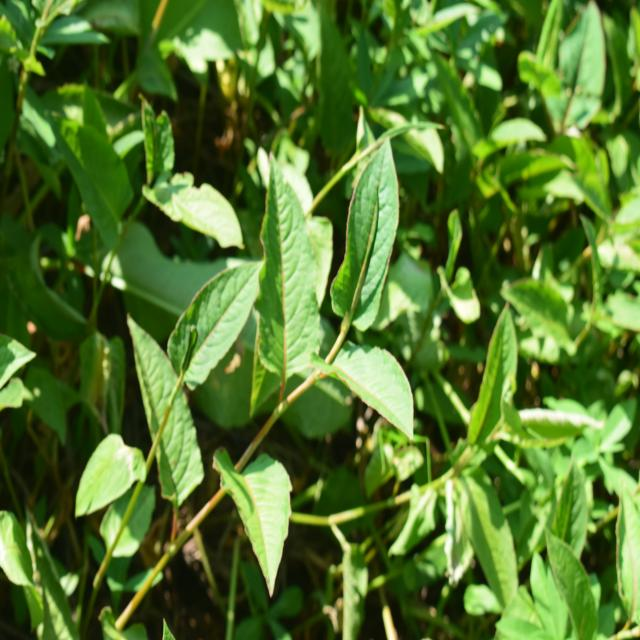Chinese_knotweed: (234, 140, 423, 500)
